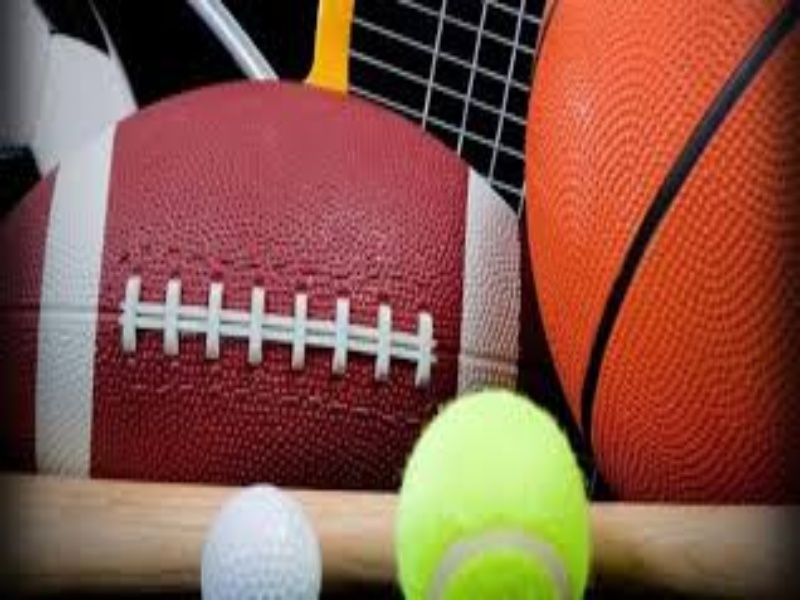tennis ball: (384, 374, 594, 600)
